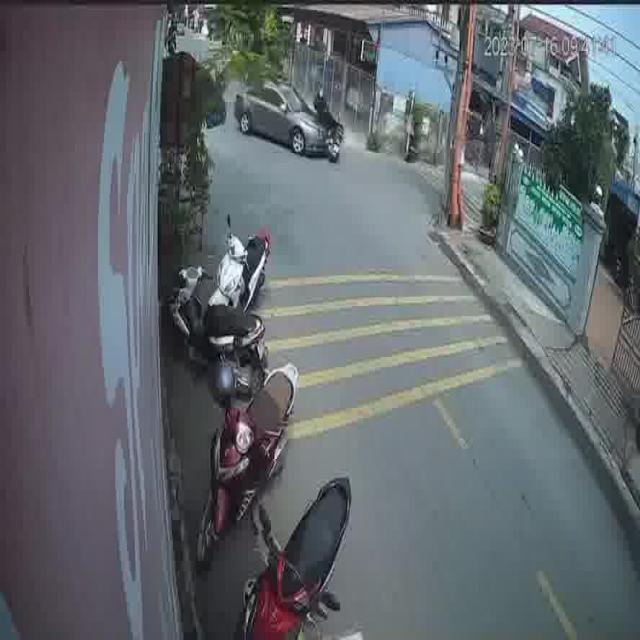multiple_accident: (232, 62, 349, 172)
